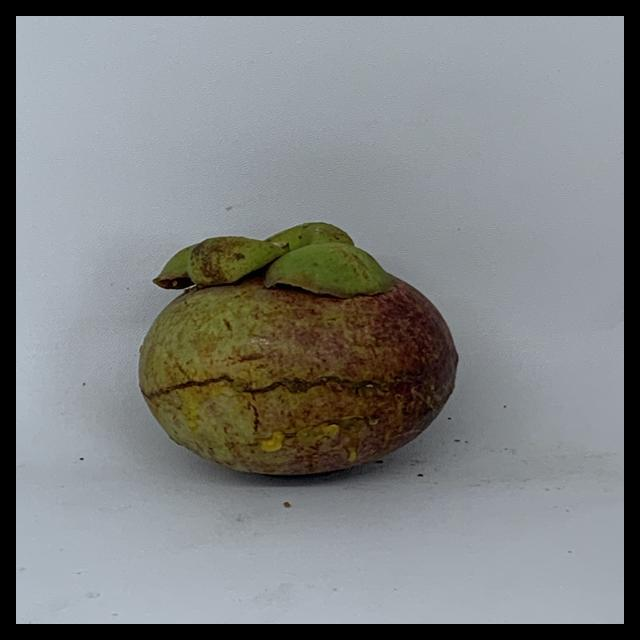mangosteen: (142, 215, 500, 532)
